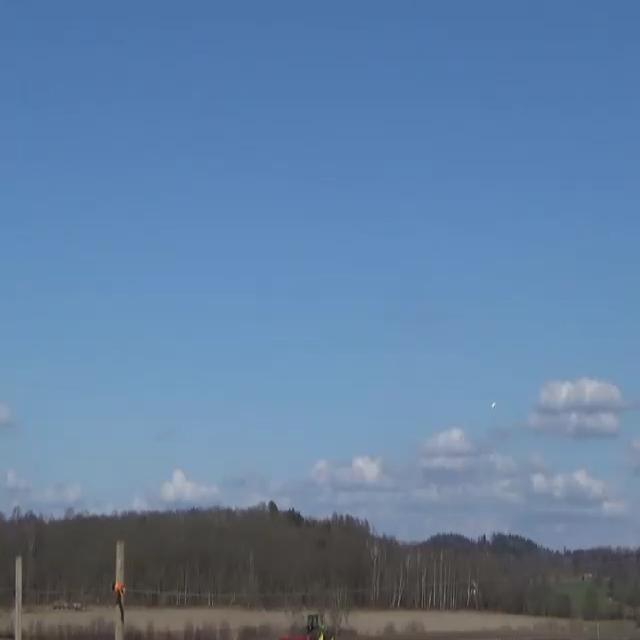Drone: (482, 392, 506, 422)
